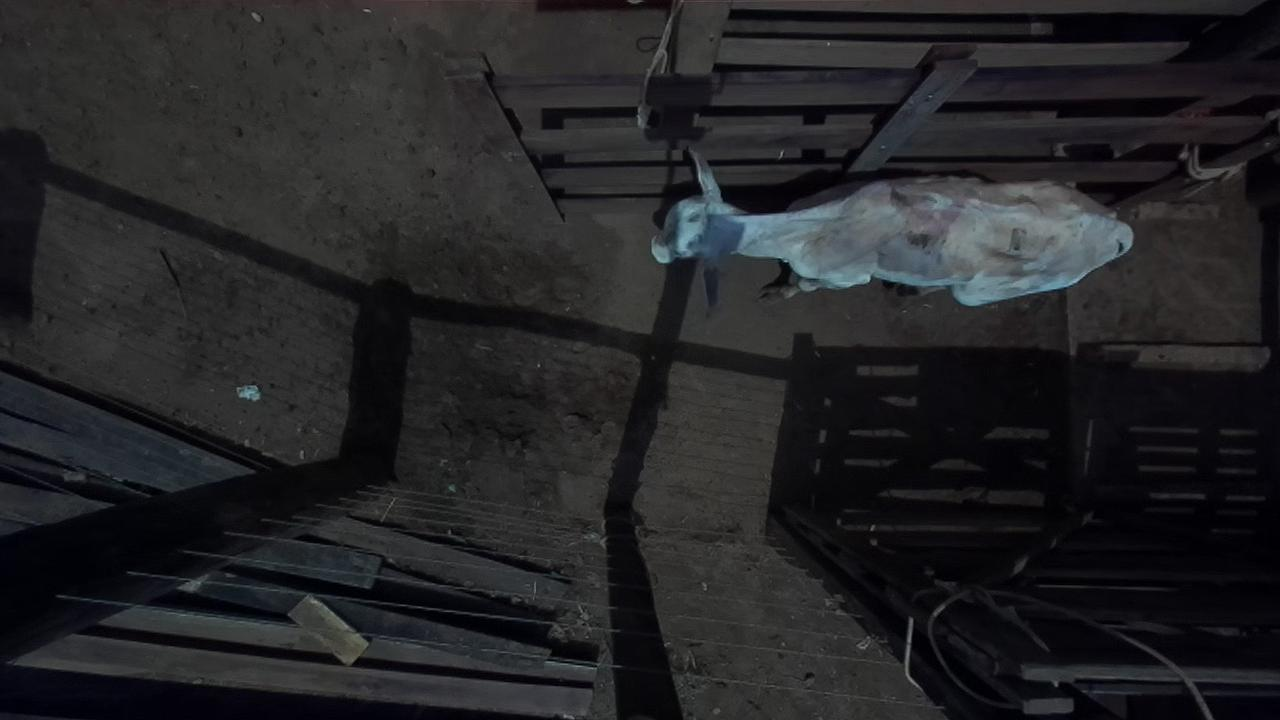cattle: (649, 144, 1134, 311)
